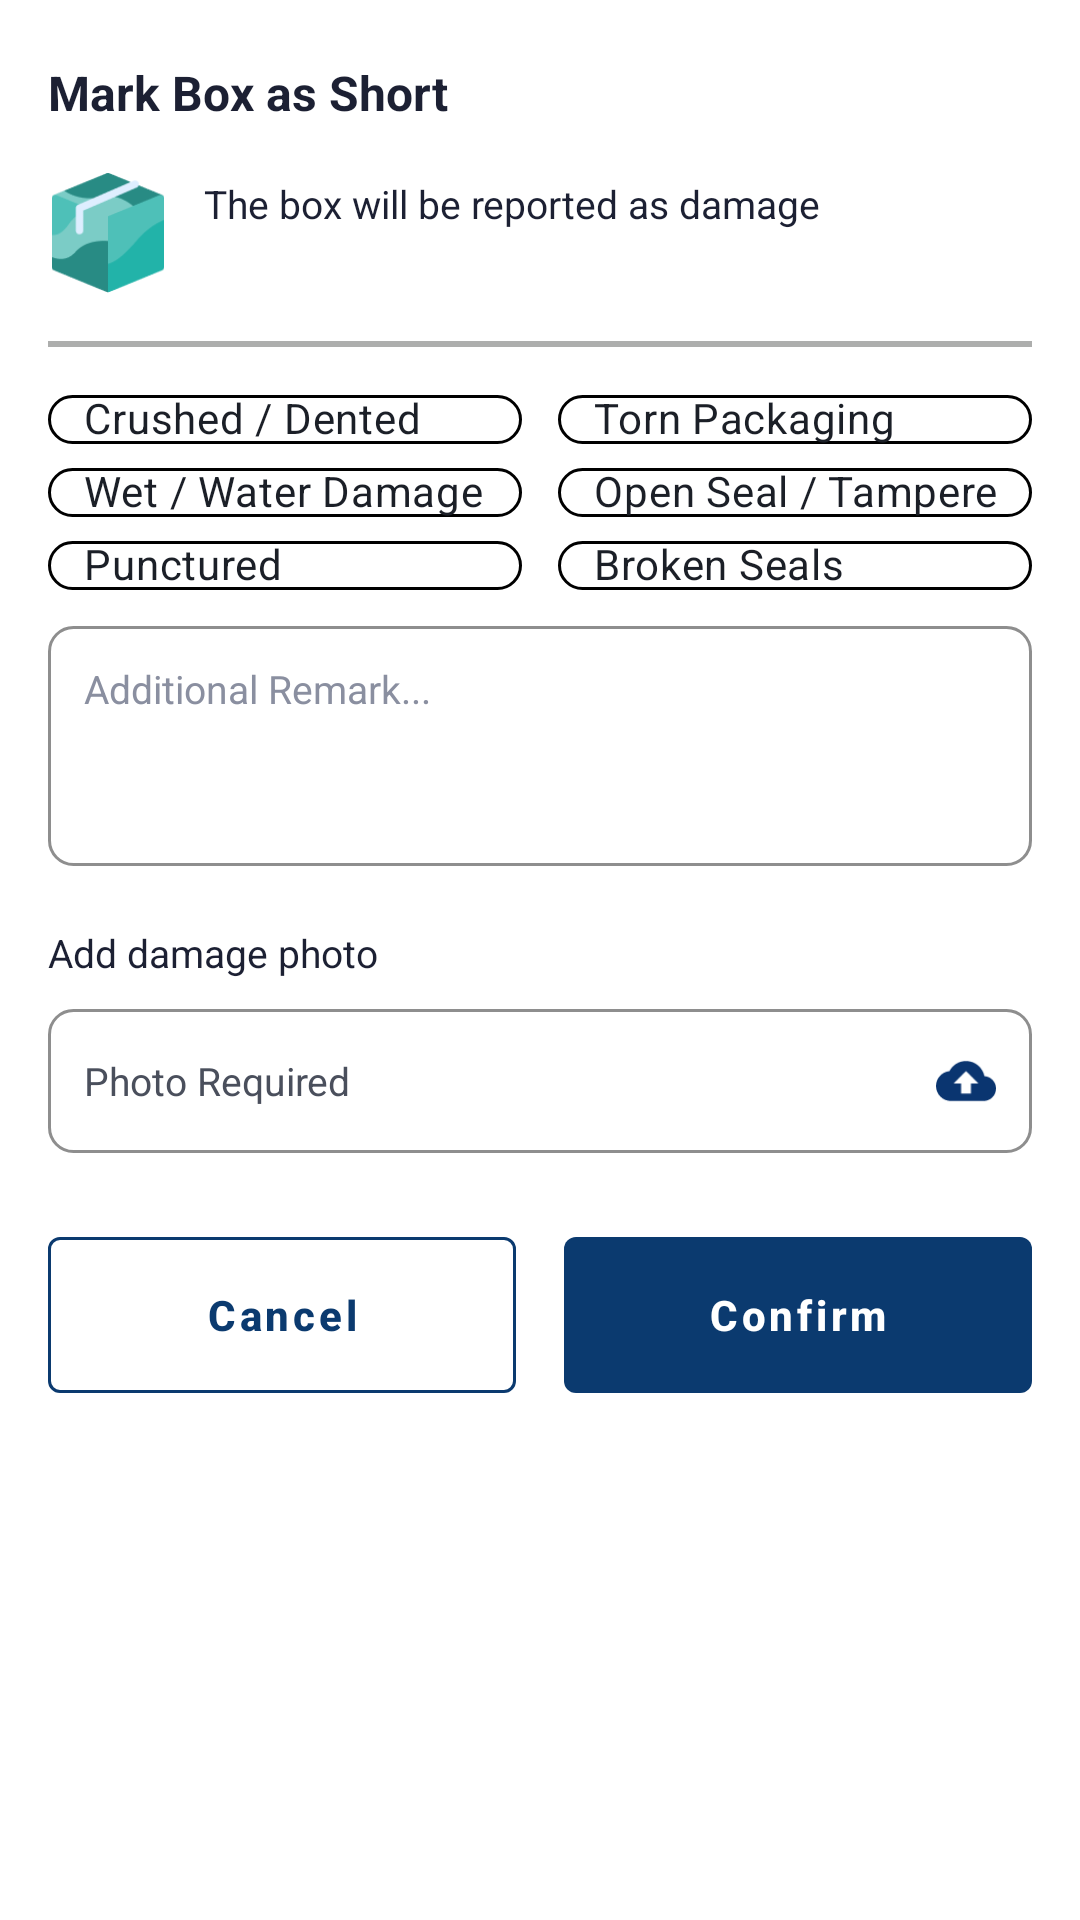

Screen size 1080 x 1920. Icon name, then its center in pixels as (x=x, y=y):
Upload photo: (x=966, y=1081)
